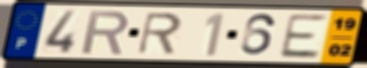1: (204, 12, 227, 57)
4: (42, 8, 78, 55)
6: (239, 12, 278, 59)
E: (276, 13, 329, 60)
R: (80, 9, 132, 56), (135, 11, 185, 56)
